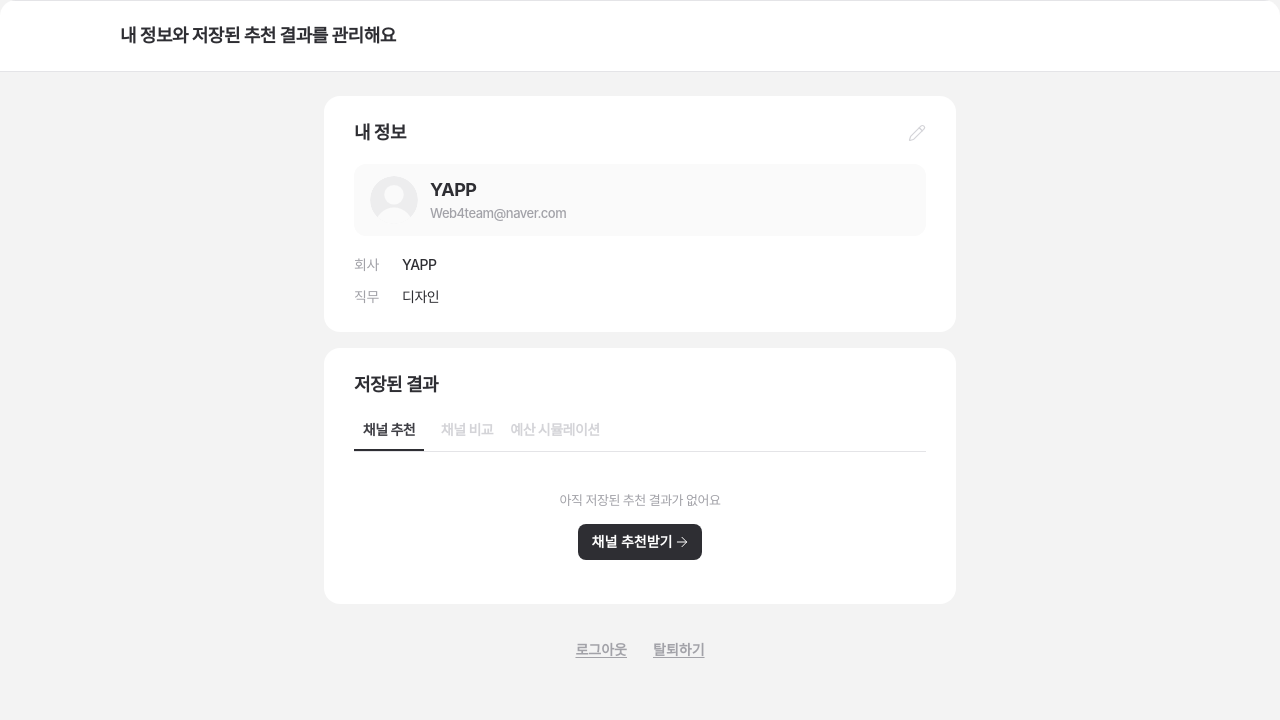
Test: MyPage › opens the profile edit modal and saves updated profile data
The width and height of the screenshot is (1280, 720).
Click the button named "내 정보 수정". click: (917, 133)
box: [908,124,926,142]
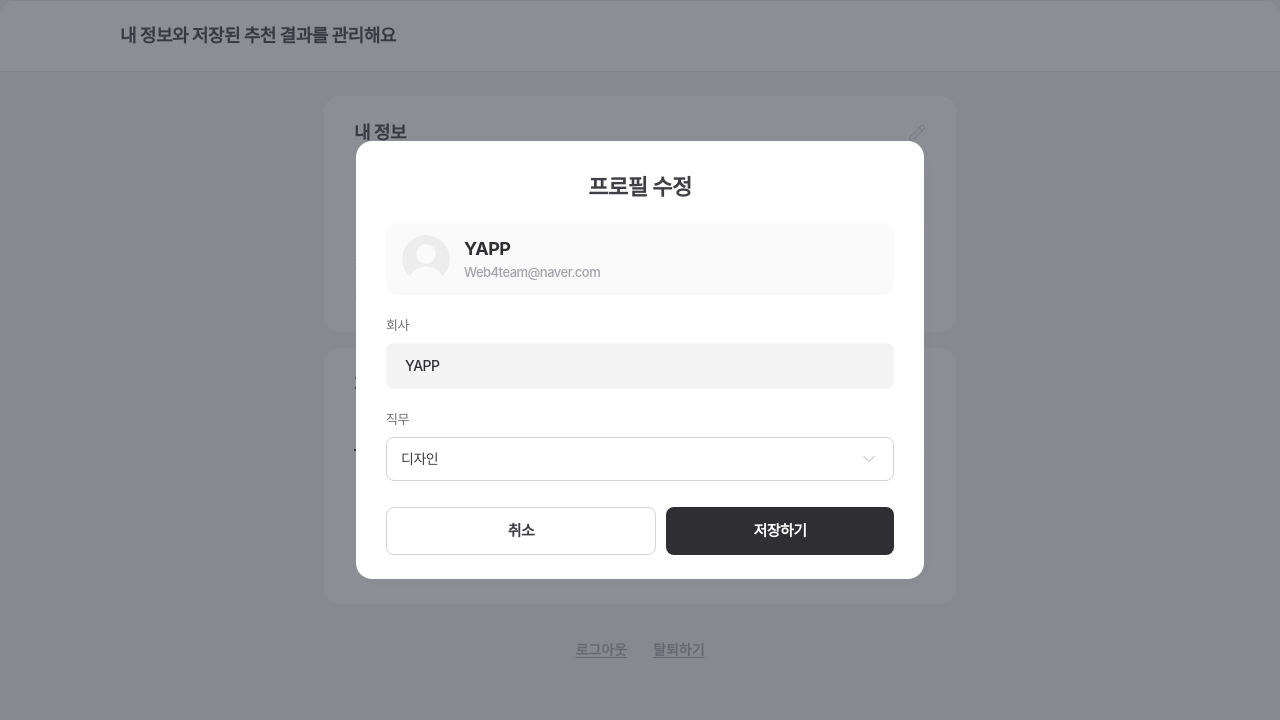
Expected: the field labelled "회사" holds "YAPP"
Expected: the dropdown named "직무" reads "디자인", [386,437,894,481]
Replace the text in the field labelled "회사" with "새 회사". click: (640, 366)
box: [405,355,875,377]
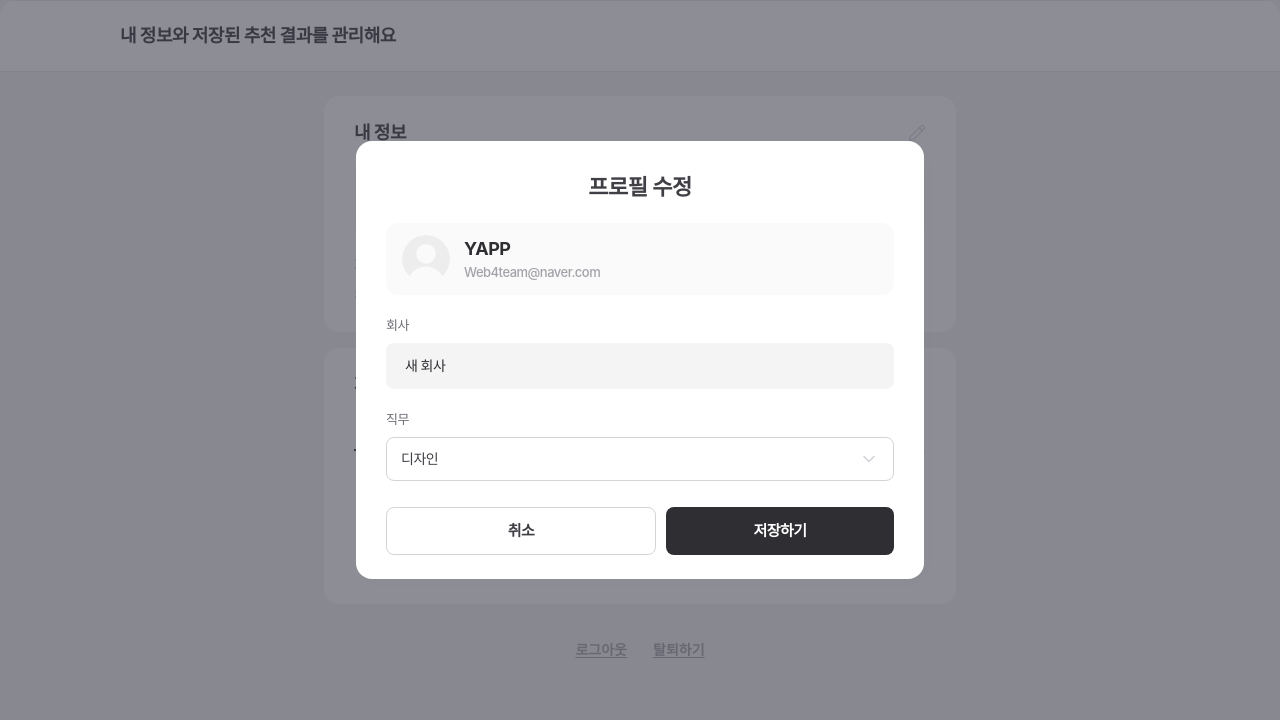
Click the dropdown named "직무". click: (420, 458)
box: [386,437,894,481]
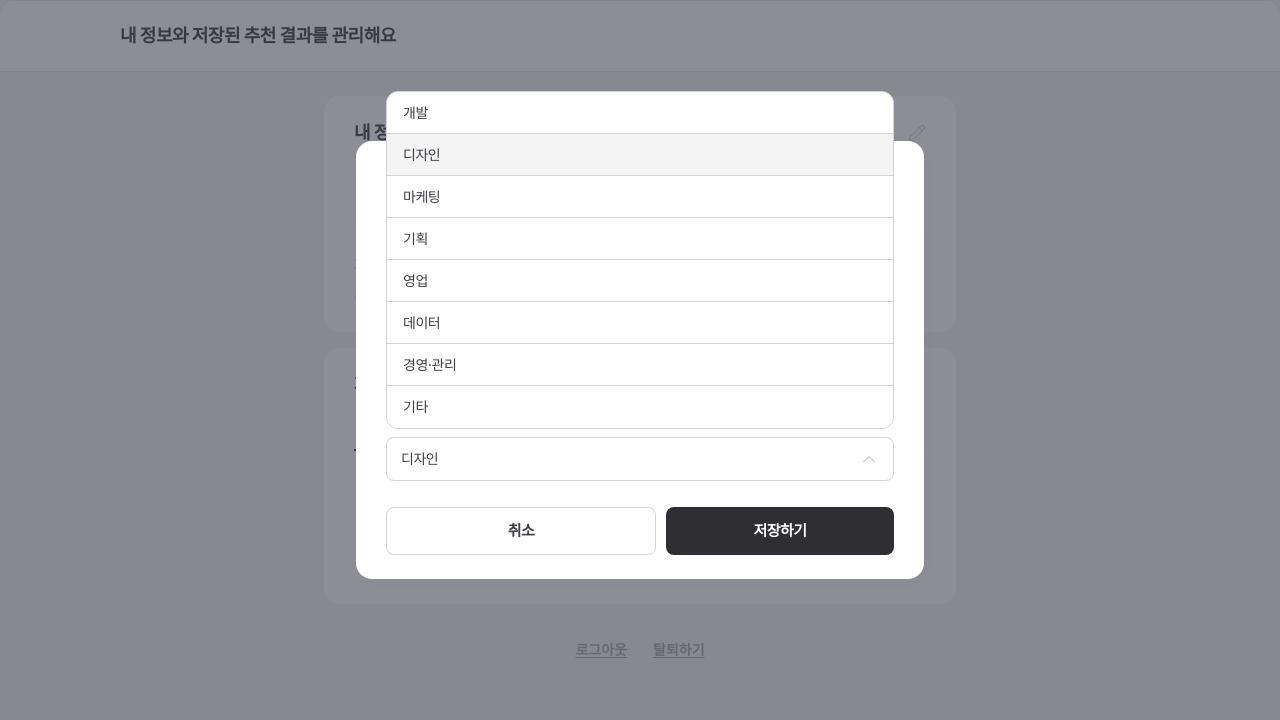
Click the option "개발". click: (415, 112)
box: [387,92,893,134]
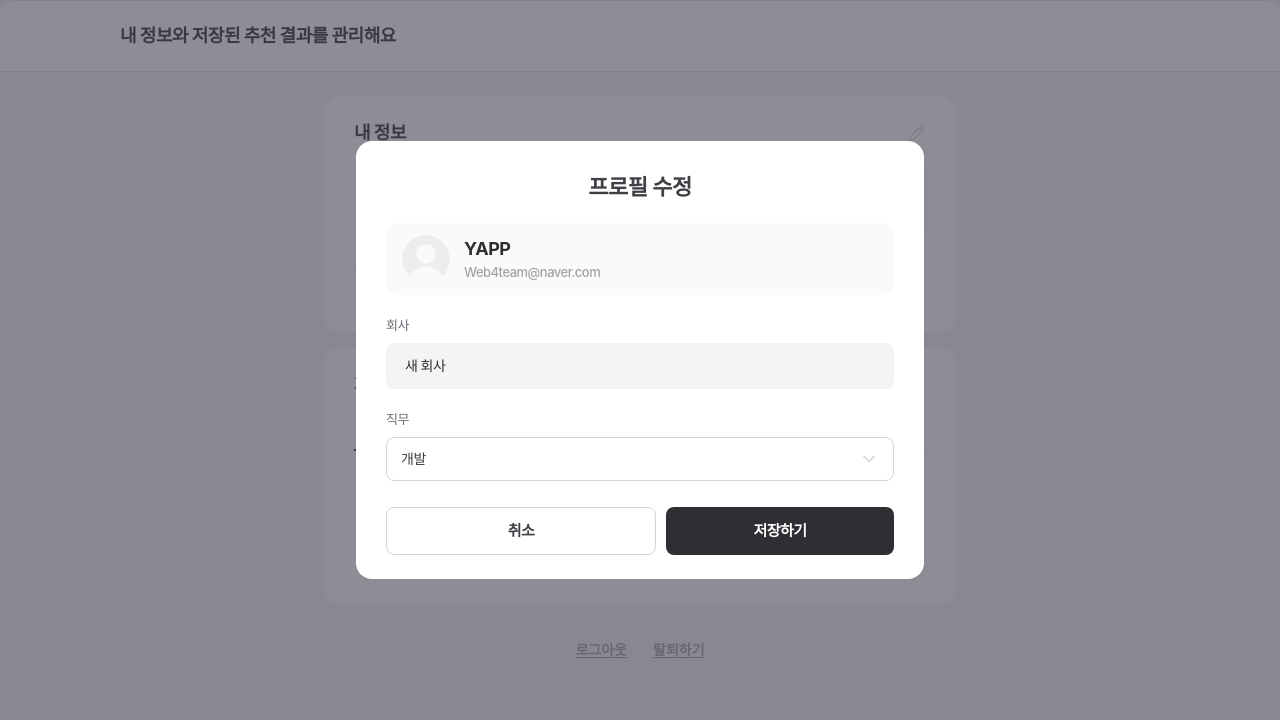
Click the button "저장하기". click: (780, 531)
box: [666,507,894,555]
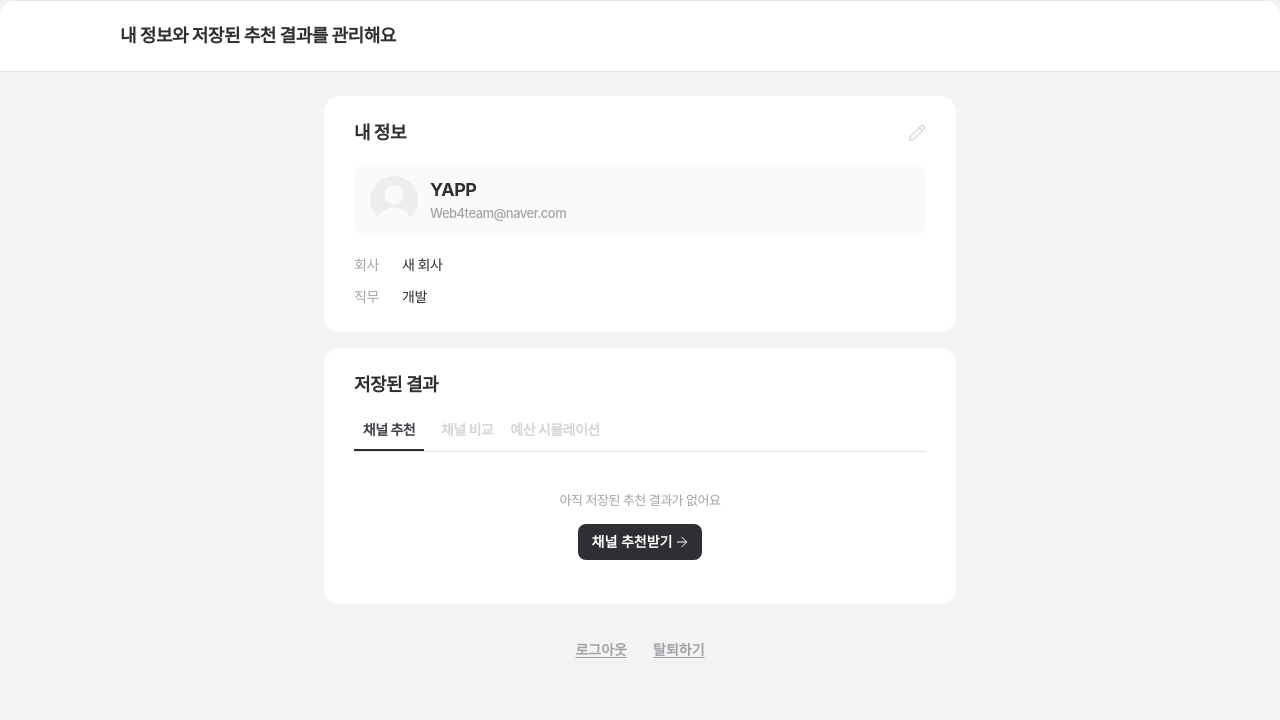
Expected: the heading "프로필 수정" is gone
Expected: the text "새 회사" is shown, [402,254,442,276]
Expected: the text "개발" is shown, [402,286,427,308]
